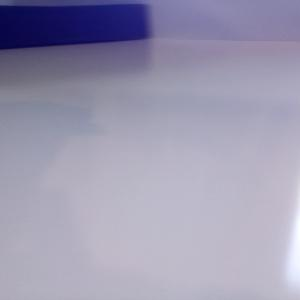zone: (1, 5, 148, 50)
